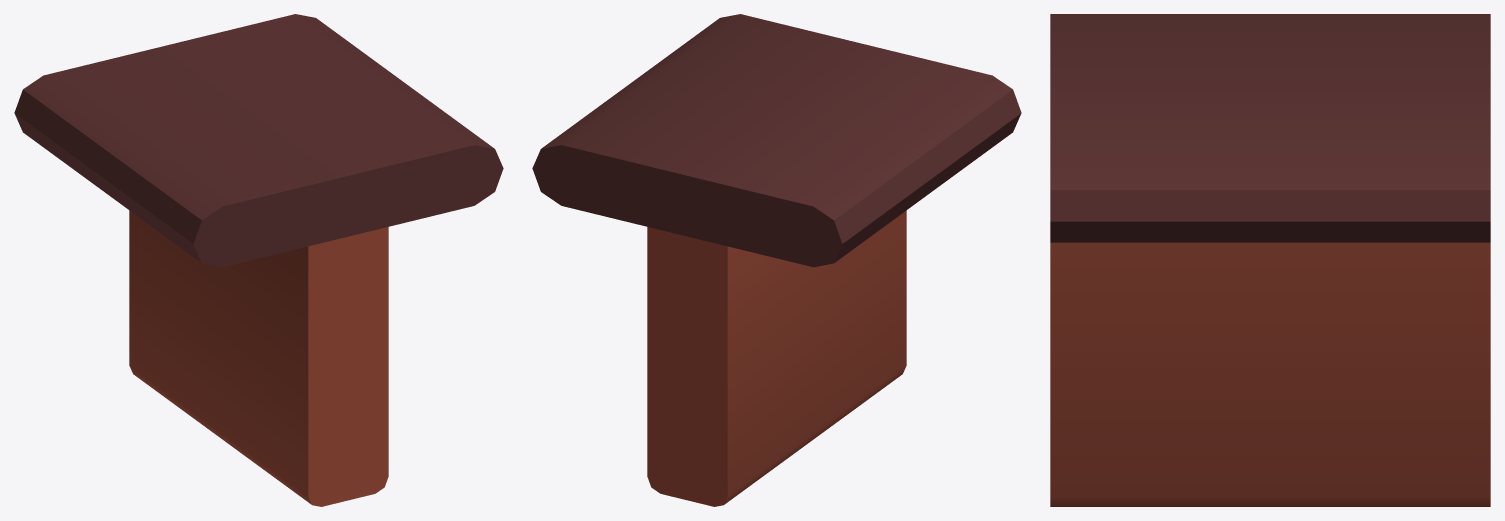
File: custumor counter with color.fbx
3 views of the same model, side by side, from view 1: azimuth 30°, elevation 25°; view 2: azimuth 150°, elevation 25°; view 3: azimuth 270°, elevation 25° (orthographic). The views are drawn at different scales.
Visible parts, largest first — view 1: customer counter; view 2: customer counter; view 3: customer counter.
Part boxes in pixels (x1,y1,x2,y2): customer counter: (14,14,503,506); customer counter: (532,14,1021,506); customer counter: (1050,14,1490,506).
Size of the model in its own units: 100 by 100 by 100.
